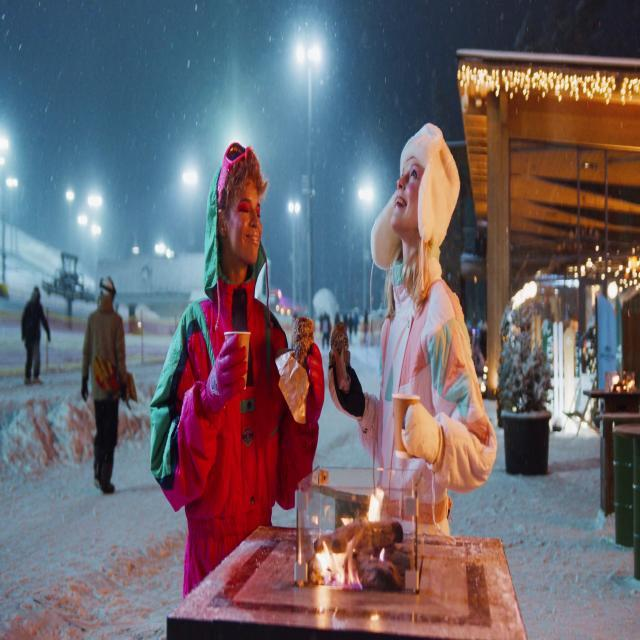Fire: (310, 483, 390, 593)
